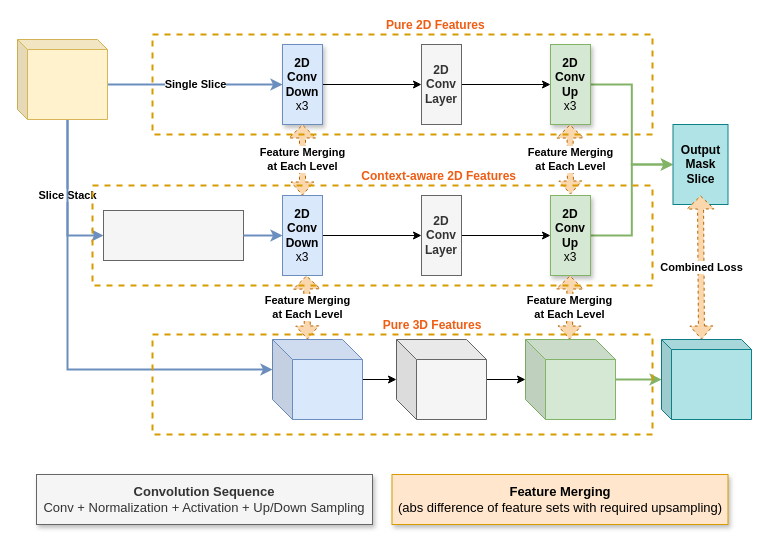
Some shapes in this 769 by 549 pixel diagram are drawn without their labels. Here are the shapes that lost their labels. From the top down, the centre of each, then its label:
At point 62,79: "Input Scan".
At point 173,235: "3D to 2D Conversion (local context)".
At point 317,379: "3D Conv Down x3".
At point 441,379: "3D Conv Layer".
At point 570,379: "3D Conv Up x3".
At point 706,379: "Output Mask Volume".
